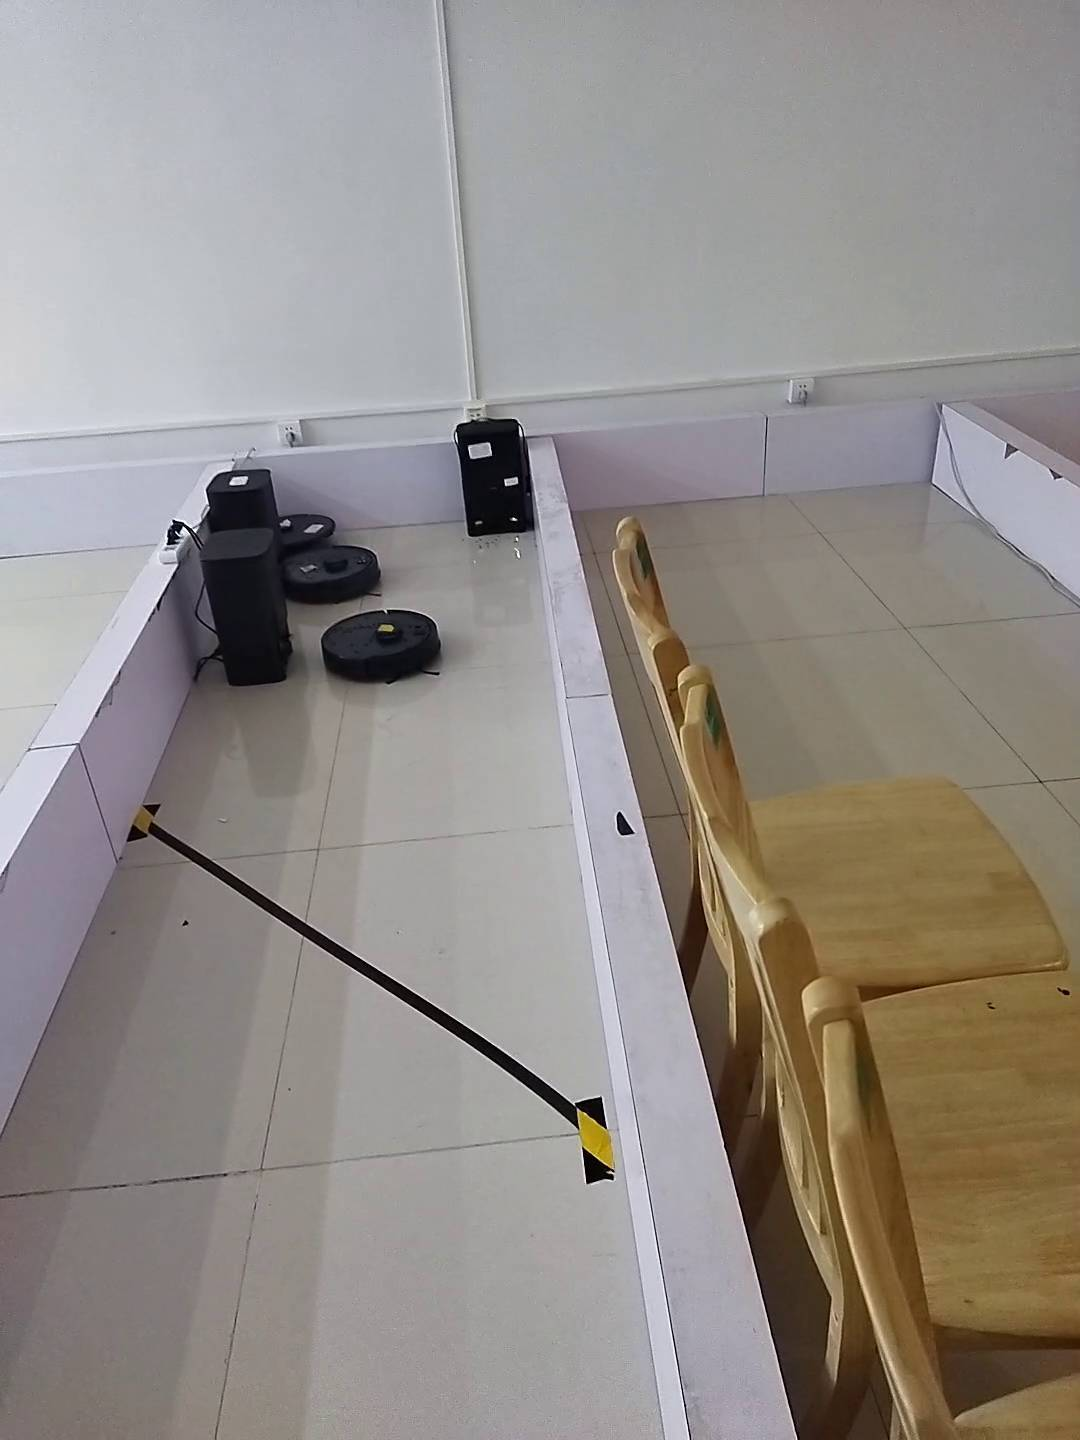dust collecting barrel: (200, 527, 298, 687), (455, 422, 531, 535)
